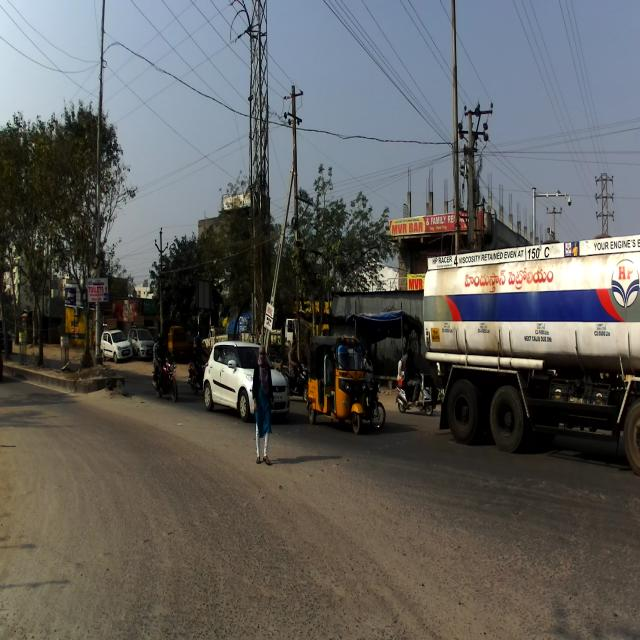auto ahead at: (306, 330, 370, 438)
car ahead at: (205, 338, 259, 410)
motorcycle ahead at: (147, 338, 180, 399)
truck ahead at: (420, 238, 640, 464)
